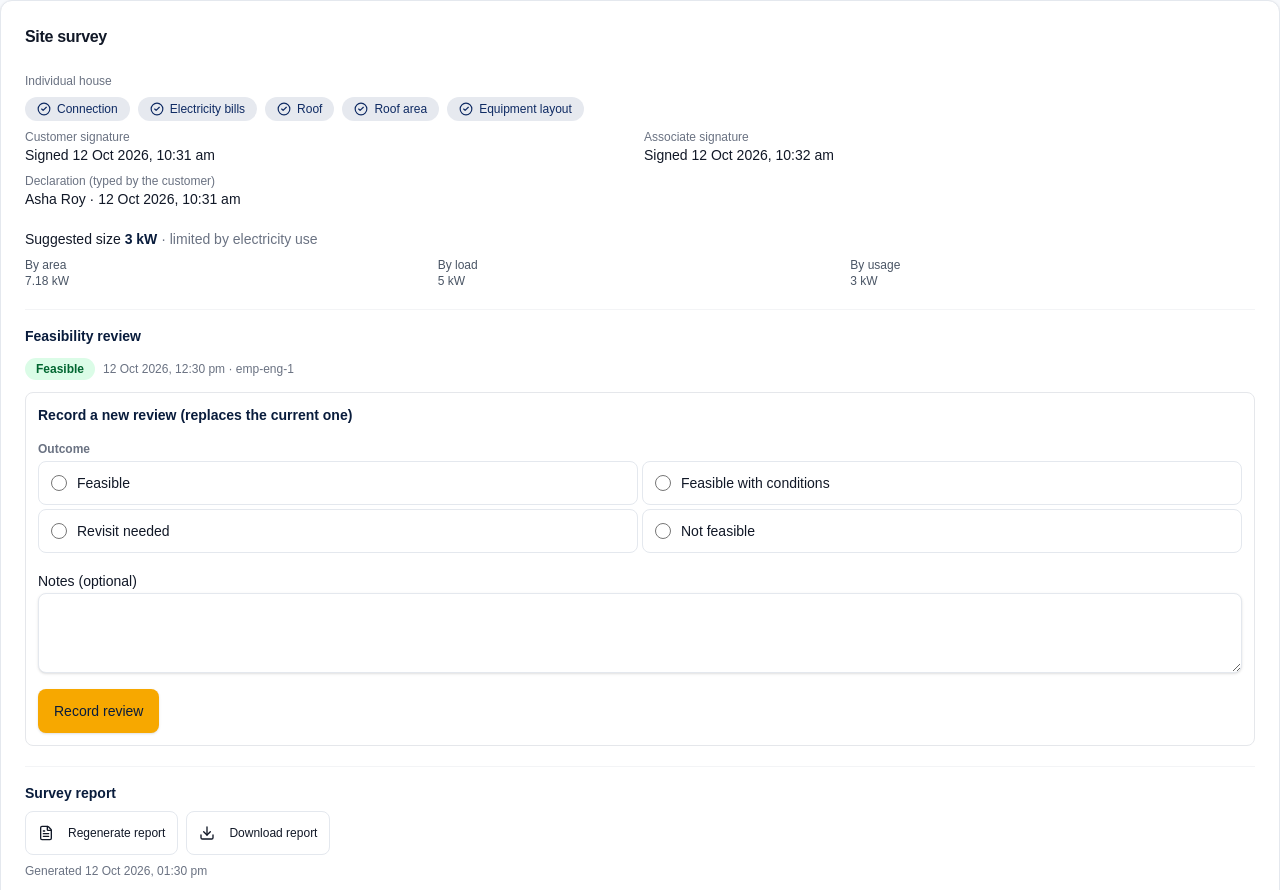
SurveyPanel — report › maps 503 storage_not_configured and 404 report_not_generated to plain messages
Click the button "Download report": (258, 833) [186, 811, 330, 855]
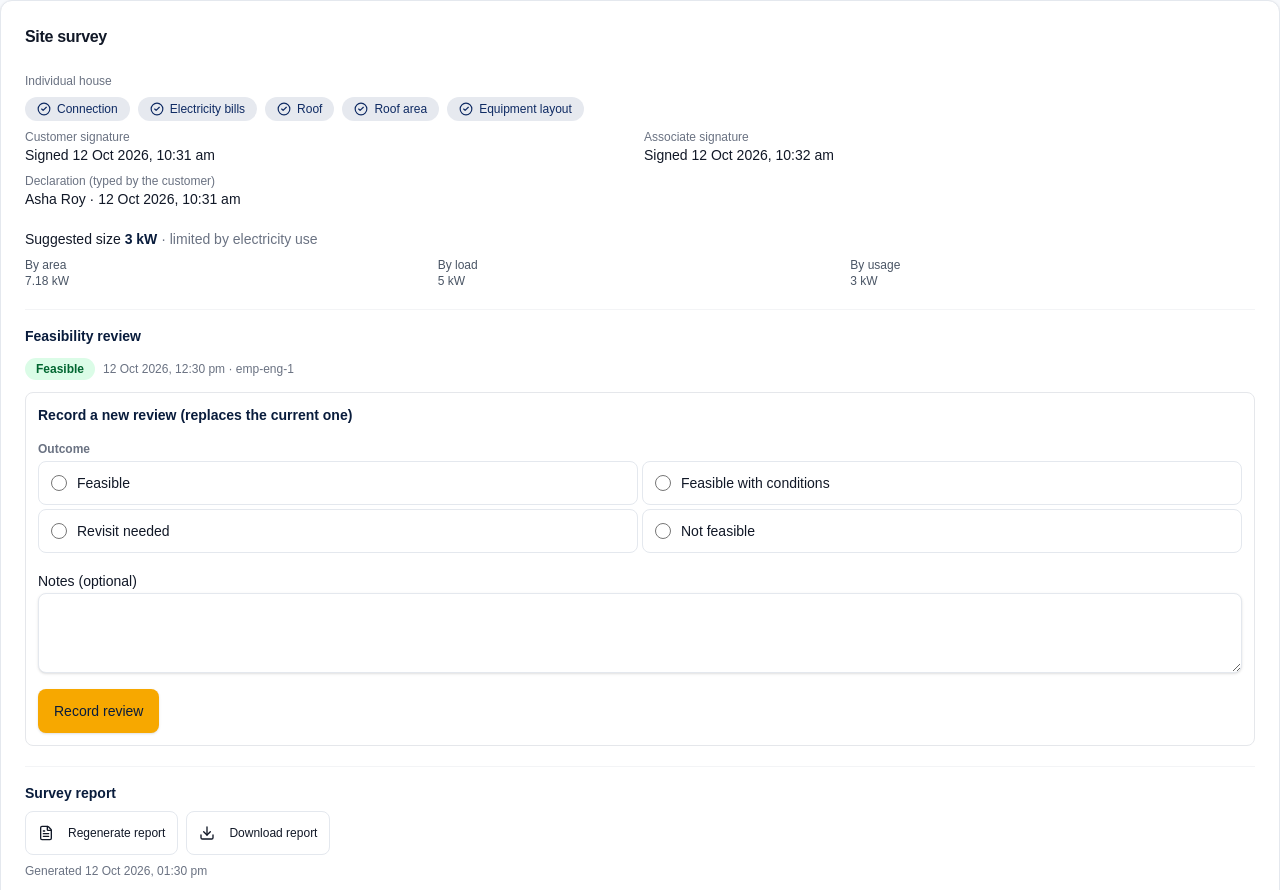
Click the button "Download report": (258, 833) [186, 811, 330, 855]
(page scrolled)
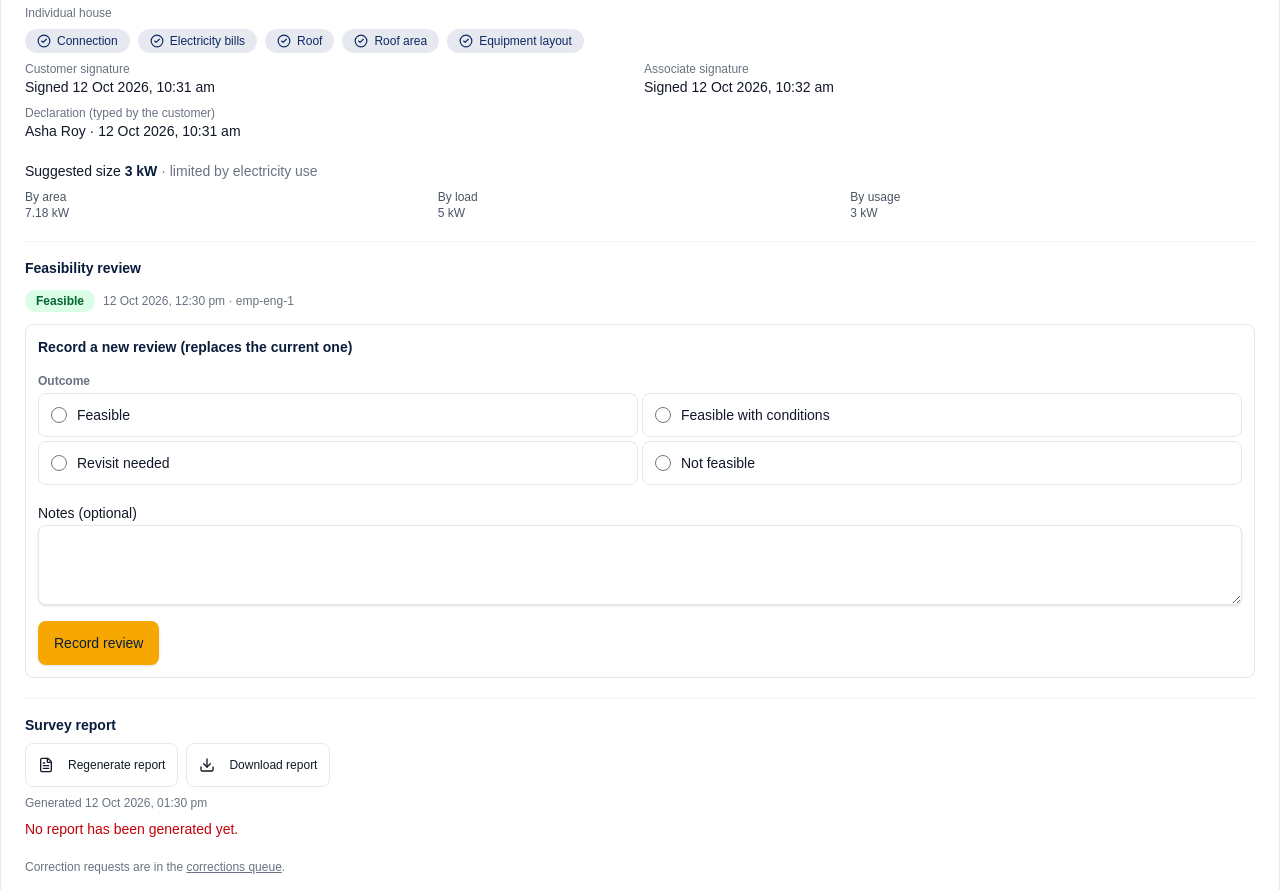
expect the message with test id "report-error" shows "No report has been generated": met, box [25, 821, 238, 837]
